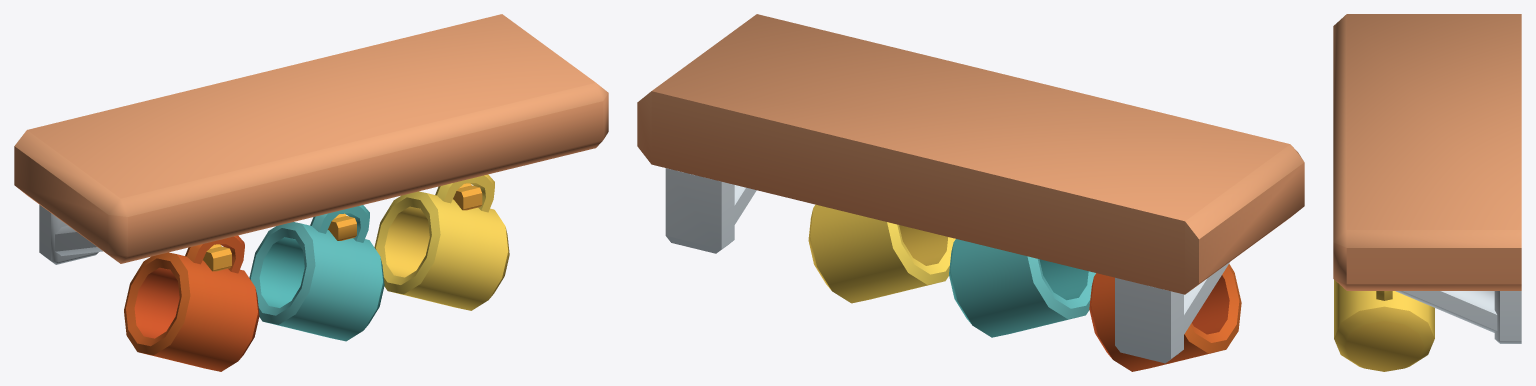
File: Wall Shelf Kitchen-j8D5pqHUKm.glb
3 renders of one model, left to right at view 1: azimuth 30°, elevation 25°; view 2: azimuth 150°, elevation 25°; view 3: azimuth 270°, elevation 25°, orthographic. The views are drawn at different scales.
Parts seen in each view (by area): view 1: wall_shelf_kitchen_hooks_decorated; view 2: wall_shelf_kitchen_hooks_decorated; view 3: wall_shelf_kitchen_hooks_decorated.
Boxes of the visible parts, left/top/right/bottom form: wall_shelf_kitchen_hooks_decorated: left=14, top=14, right=608, bottom=371; wall_shelf_kitchen_hooks_decorated: left=637, top=14, right=1304, bottom=371; wall_shelf_kitchen_hooks_decorated: left=1333, top=14, right=1521, bottom=371.
Size of the model in its own units: 2 by 0.8032 by 0.7.
Materials: 1 (1 with a texture image).
